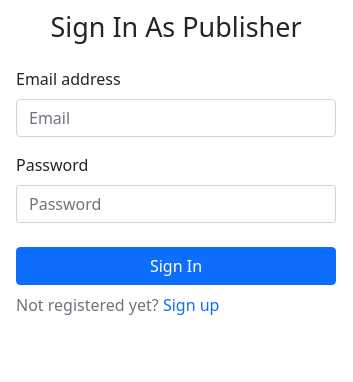
it: Testing SignIn component › Testing the component without filling any input
This screenshot has width=353, height=382.
Step 1. Click the button "Sign In" → (176, 266), box top-left (16, 247), bottom-right (336, 285)
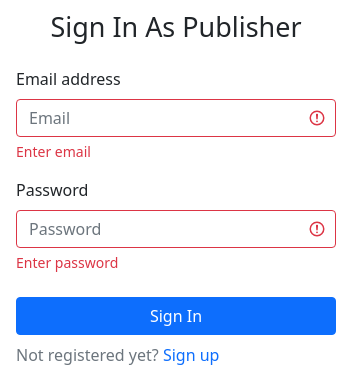
Expected: the text "Enter email" is shown, top-left (16, 142), bottom-right (91, 161)
Expected: the text "Enter password" is shown, top-left (16, 253), bottom-right (118, 272)
